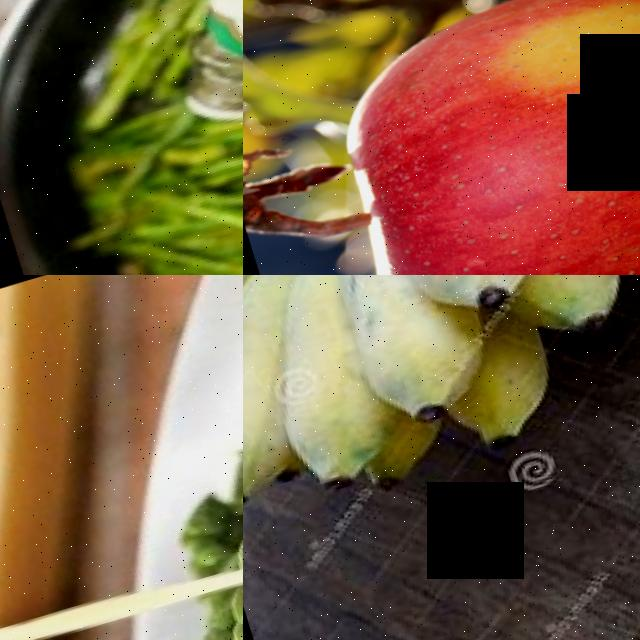apple: (296, 0, 640, 275)
banana: (243, 275, 402, 502), (243, 275, 320, 529), (336, 275, 538, 340), (488, 275, 632, 350), (446, 386, 547, 463)
